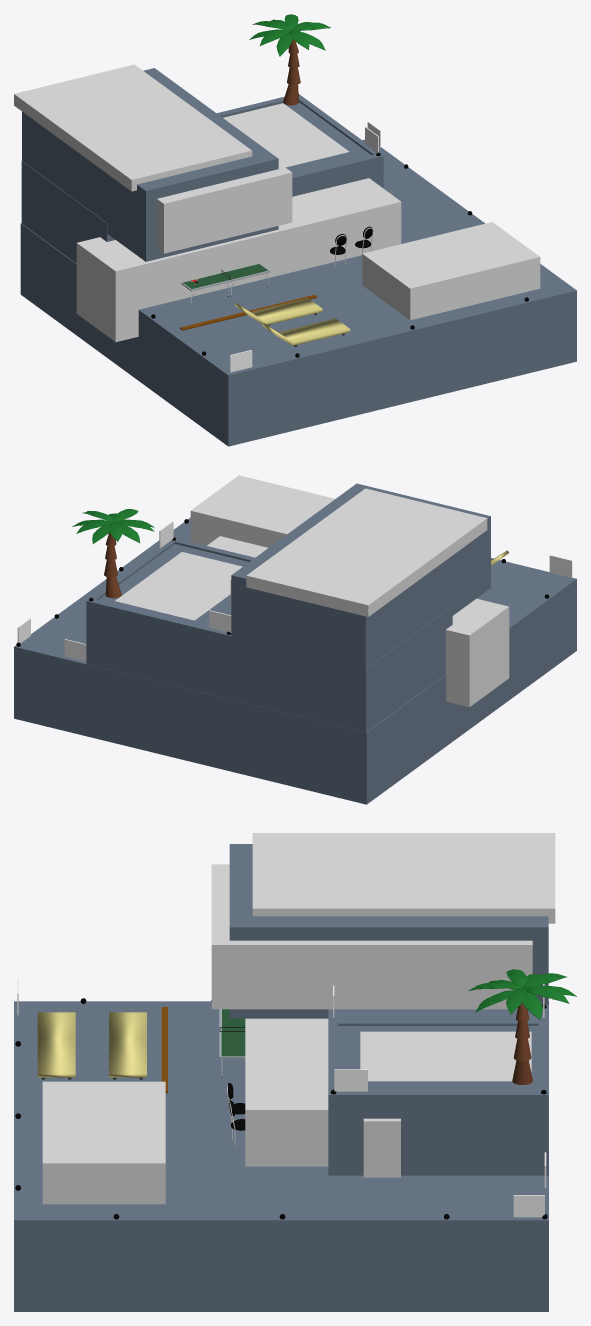
Rendered from Villa_3.gltf.
3 views of the same model, one above another, from view 1: azimuth 30°, elevation 25°; view 2: azimuth 150°, elevation 25°; view 3: azimuth 270°, elevation 25° (orthographic). The views are drawn at different scales.
Visible parts, largest first — view 1: Plane.029, Cube.002, Cube.005, Cube.003, Cube.001, Plane.001, Cube.004, Plane.016, Plane.036, Plane.037, Circle; view 2: Plane.029, Plane.001, Cube.003, Cube.005, Cube.001, Cube.002, Plane.016, Circle, Plane.031; view 3: Plane.029, Cube.005, Plane.001, Cube.004, Cube.001, Cube.002, Cube.003, Plane.016, Plane.036, Plane.037, Cube, Circle (+3 smaller).
Part boxes in pixels (x1,y1,x2,y2): Plane.029: (20,139,576,446); Cube.002: (76,178,401,341); Cube.005: (14,64,252,191); Cube.003: (22,68,278,261); Cube.001: (362,222,540,320); Plane.001: (21,94,383,263); Cube.004: (157,163,292,253); Plane.016: (223,103,349,167); Plane.036: (262,318,350,345); Plane.037: (234,298,322,324); Circle: (283,39,300,105); Plane.029: (14,517,576,804); Plane.001: (86,538,452,732); Cube.003: (231,483,490,679); Cube.005: (246,488,487,616); Cube.001: (190,475,335,547); Cube.002: (207,536,509,707); Plane.016: (115,552,242,620); Circle: (104,533,121,598); Plane.031: (549,555,572,577); Plane.029: (14,1001,548,1311); Cube.005: (252,833,555,923); Plane.001: (328,1005,548,1175); Cube.004: (211,864,532,1009); Cube.001: (42,1081,165,1204); Cube.002: (245,1018,328,1166); Cube.003: (229,844,548,1018); Plane.016: (360,1031,531,1081); Plane.036: (37,1012,75,1077); Plane.037: (109,1012,146,1077); Cube: (363,1118,400,1177); Circle: (512,1003,532,1084).
Size of the model in its own units: 10.97 by 5.97 by 11.19.
